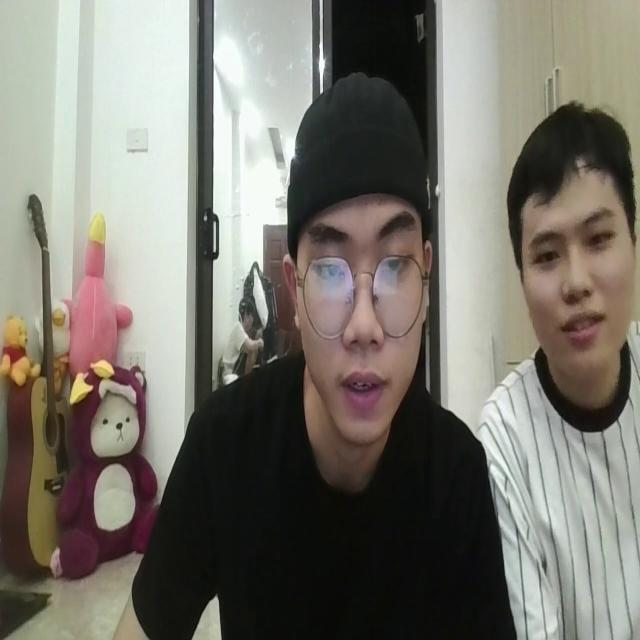extra_person: (486, 103, 640, 640)
student: (138, 95, 510, 640)
